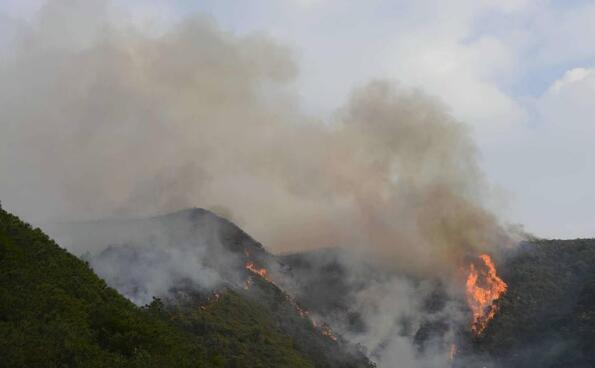fire: (449, 253, 508, 363)
yanwu: (1, 0, 510, 362)
